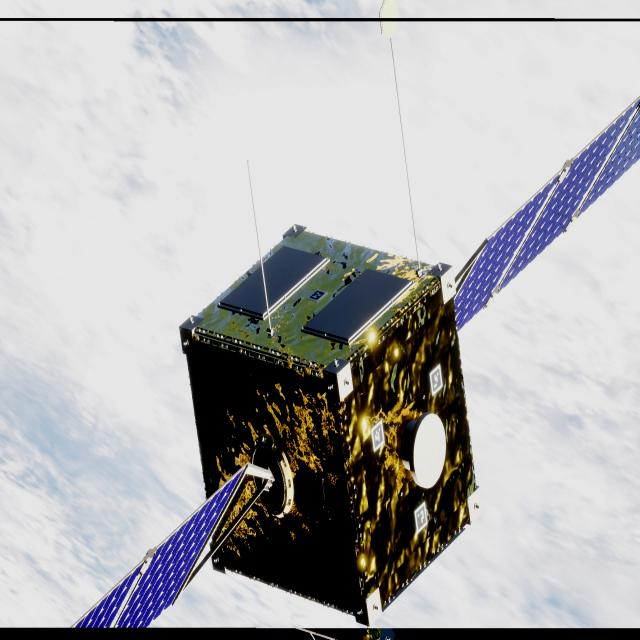medium_debris: (80, 97, 640, 627)
